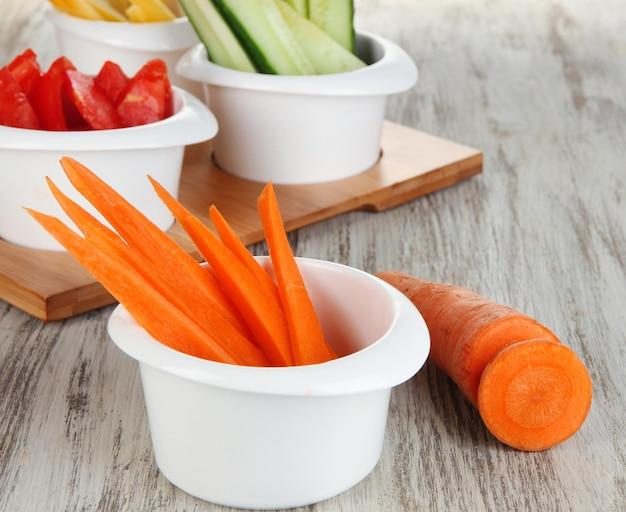carrot: (39, 158, 611, 484)
